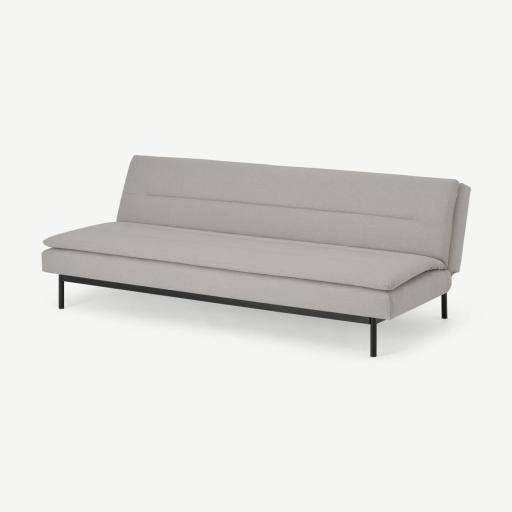back_cushion: (118, 156, 459, 264)
base: (43, 249, 451, 319)
legs: (59, 275, 383, 357), (441, 293, 447, 318)
seat_cushion: (44, 223, 445, 290)
two-seater: (0, 0, 511, 512)
